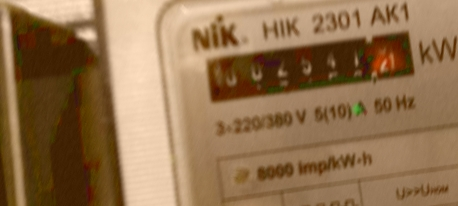0: (219, 61, 241, 89), (247, 55, 264, 83)
1: (346, 40, 362, 69)
2: (271, 51, 290, 78)
4: (322, 44, 338, 69)
5: (295, 47, 317, 77)
6: (375, 54, 392, 73)
screen: (191, 15, 431, 115)
